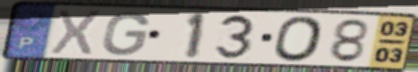1: (182, 11, 207, 61)
3: (211, 12, 259, 62)
8: (329, 18, 371, 64)
G: (100, 11, 152, 57)
O: (273, 14, 327, 63)
X: (48, 8, 105, 57)
